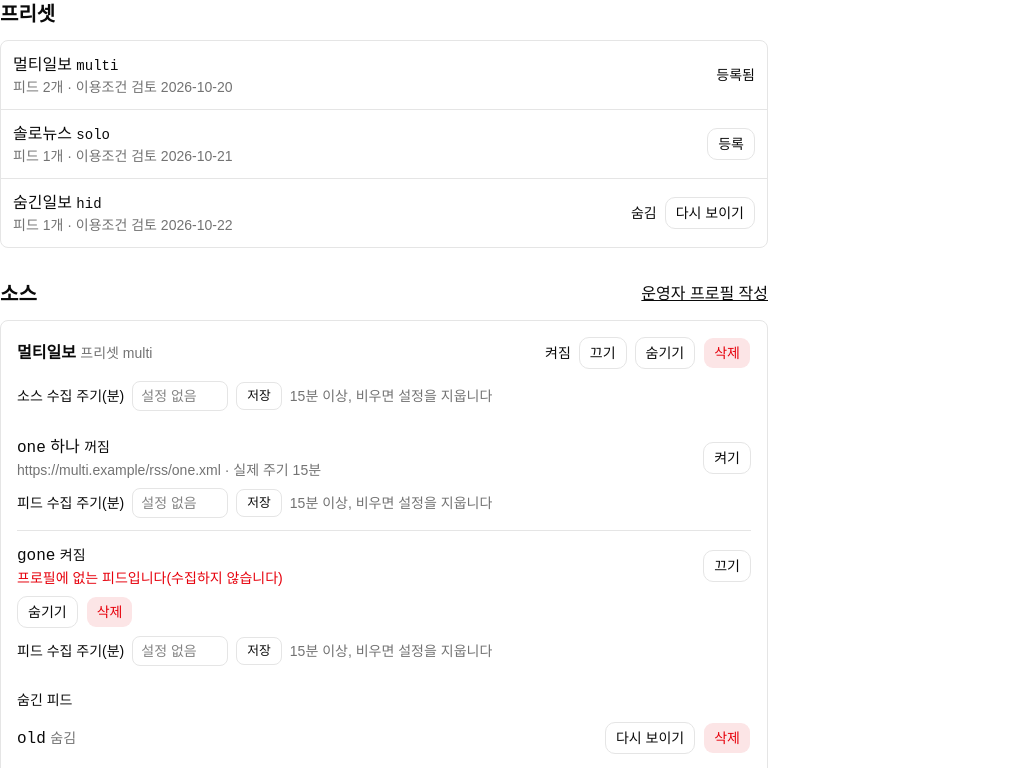
Test case: SourcesPage › 켜진 피드의 삭제는 수집을 멈춘다고 알리고, 기사 수를 얻지 못하면 그 사실을 보인다
Expected: the text "gone" is shown, [17, 547, 55, 565]
Click the button "삭제" below "gone" at (110, 612), box [86, 596, 133, 628]
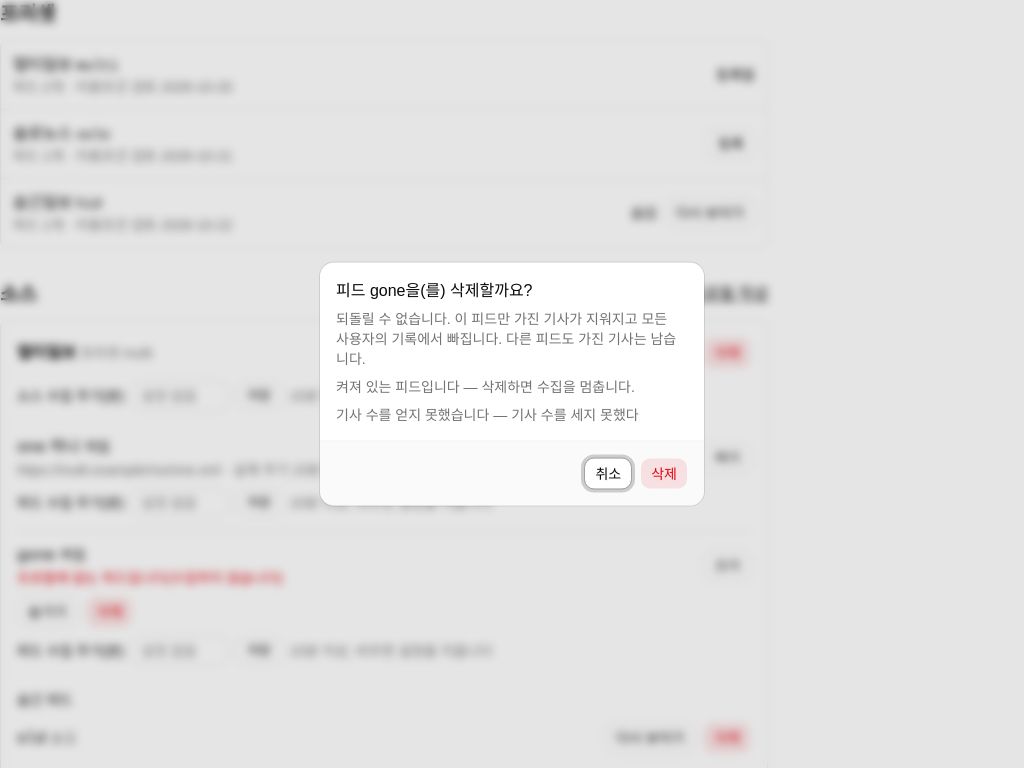
Expected: the dialog shows "켜져 있는 피드입니다 — 삭제하면 수집을 멈춥니다.", [336, 378, 635, 394]
Expected: the text "기사 수를 얻지 못했습니다 — 기사 수를 세지 못했다" is shown, [336, 404, 688, 424]
Expected: the button "삭제" is enabled, [640, 458, 688, 490]
